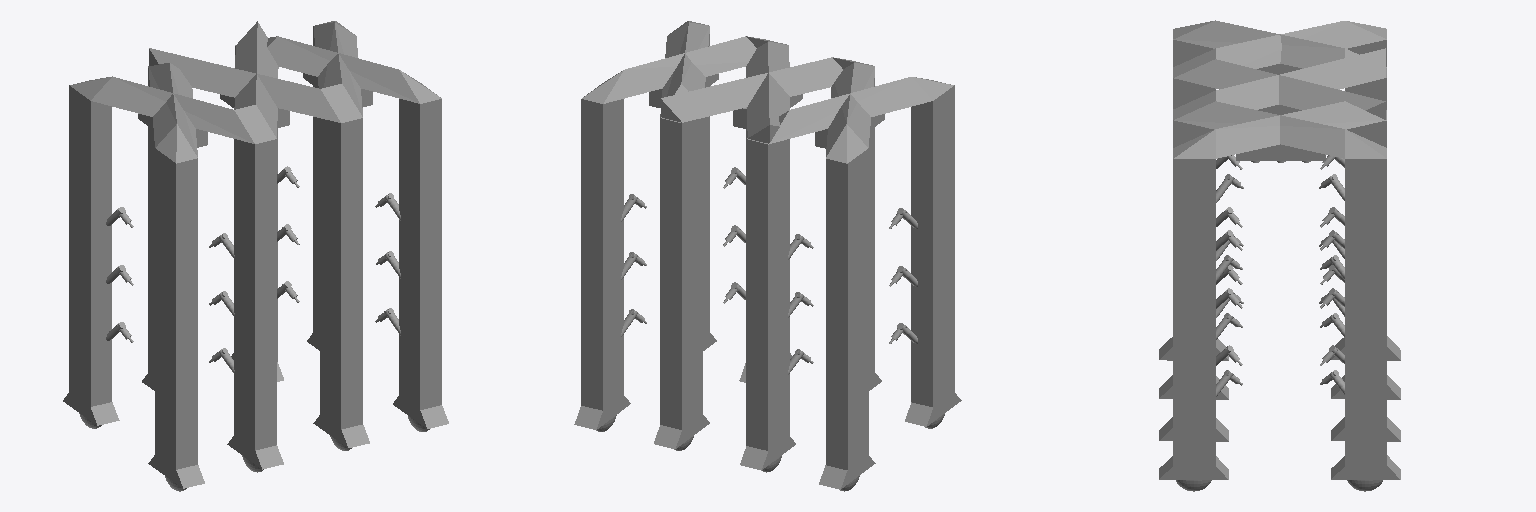
URDF robot description (MAMA_robot):
<?xml version="1.0"?>
<robot name="MAMA_robot">

  <link name="base_footprint"/>

  <joint name="base_joint" type="fixed">
    <parent link="base_footprint"/>
    <child link="base_link"/>
    <origin xyz="0 0 0" rpy="0 0 0"/>
  </joint>

  <link name="base_link">
    <visual>
      <origin xyz="0 0 0" rpy="0 0 -1.5708"/>
      <geometry>
        <mesh filename="package://MAMA_robot/meshes/model.stl" scale="0.09 0.09 0.09"/>
      </geometry>
      <material name="body_robot_mesh_gray">
        <color rgba="0.65 0.65 0.65 1.0"/>
      </material>
    </visual>

    <collision>
      <origin xyz="0 0 0.25" rpy="0 0 0"/>
      <geometry>
        <box size="0.32 0.40 0.50"/>
      </geometry>
    </collision>

    <inertial>
      <origin xyz="0 0 0.25" rpy="0 0 0"/>
      <mass value="1.0"/>
      <inertia ixx="0.1" ixy="0.0" ixz="0.0" iyy="0.1" iyz="0.0" izz="0.1"/>
    </inertial>
  </link>

</robot>

--- Facts derived from the render (not from the file) ---
3 views of the same robot in one strip: view 1: azimuth 30°, elevation 25°; view 2: azimuth 150°, elevation 25°; view 3: azimuth 270°, elevation 25° (orthographic).
Robot: MAMA_robot — 2 links, 1 joints (1 fixed); root link base_footprint; default pose: all joints at 0.
Visible links, largest first — view 1: base_link; view 2: base_link; view 3: base_link.
Boxes of the visible links, bbox=[...] form: base_link: bbox=[63, 21, 448, 491]; base_link: bbox=[574, 21, 961, 491]; base_link: bbox=[1159, 20, 1400, 491].
Size in the robot's own frame: 0.4365 by 0.3437 by 0.5578 metres.
1 mesh visuals loaded from 1 distinct referenced files (1 binary STL).
